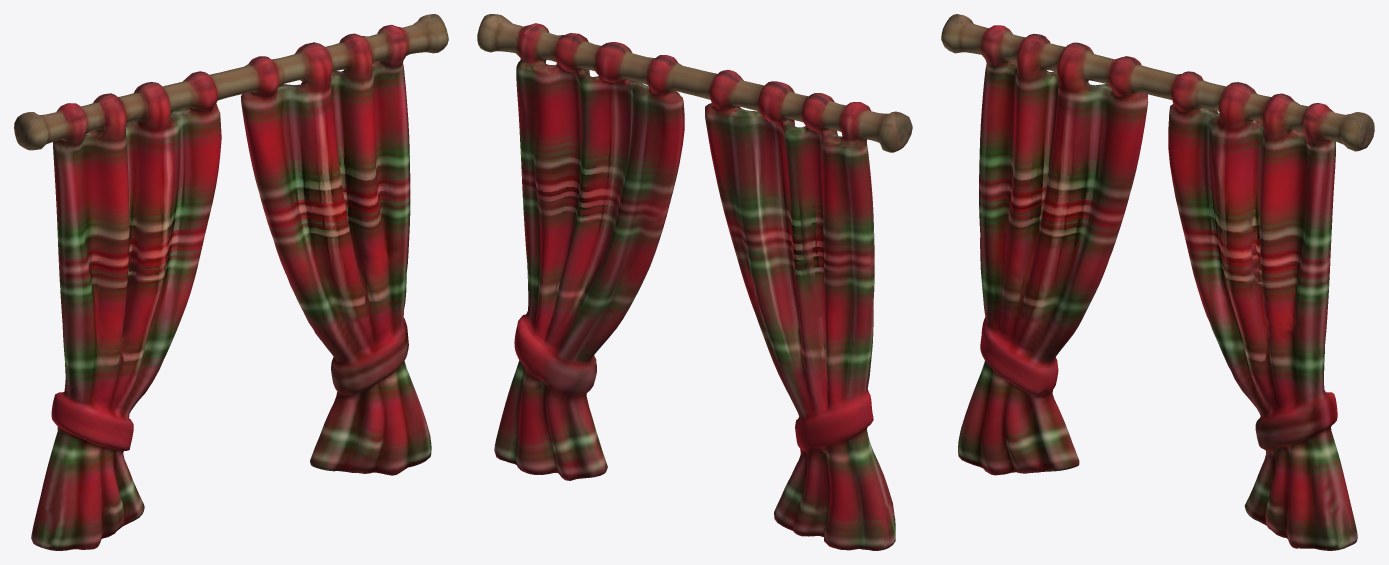
The model's file is Red_plaid_curtains.glb.
3 views of the same model, side by side, from view 1: azimuth 30°, elevation 25°; view 2: azimuth 150°, elevation 25°; view 3: azimuth 330°, elevation 25° (orthographic).
Size of the model in its own units: 1.91 by 1.91 by 0.2593.
1 material, 1 textured.
